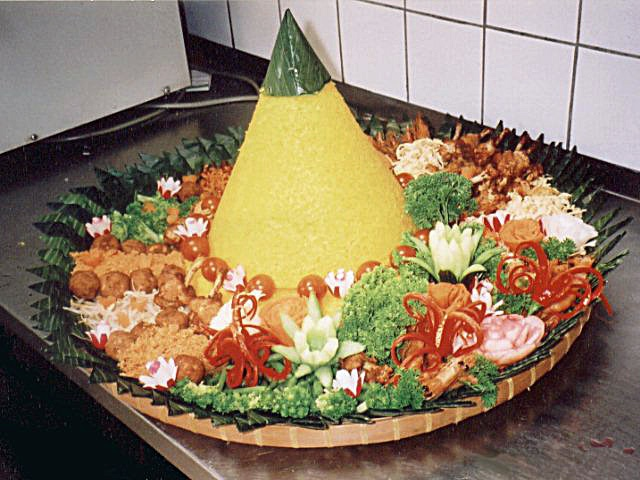tumpeng: (190, 5, 420, 287)
